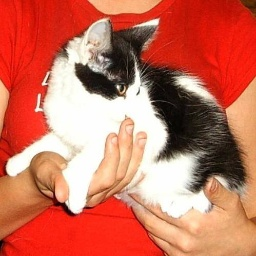cat: (11, 13, 244, 223)
